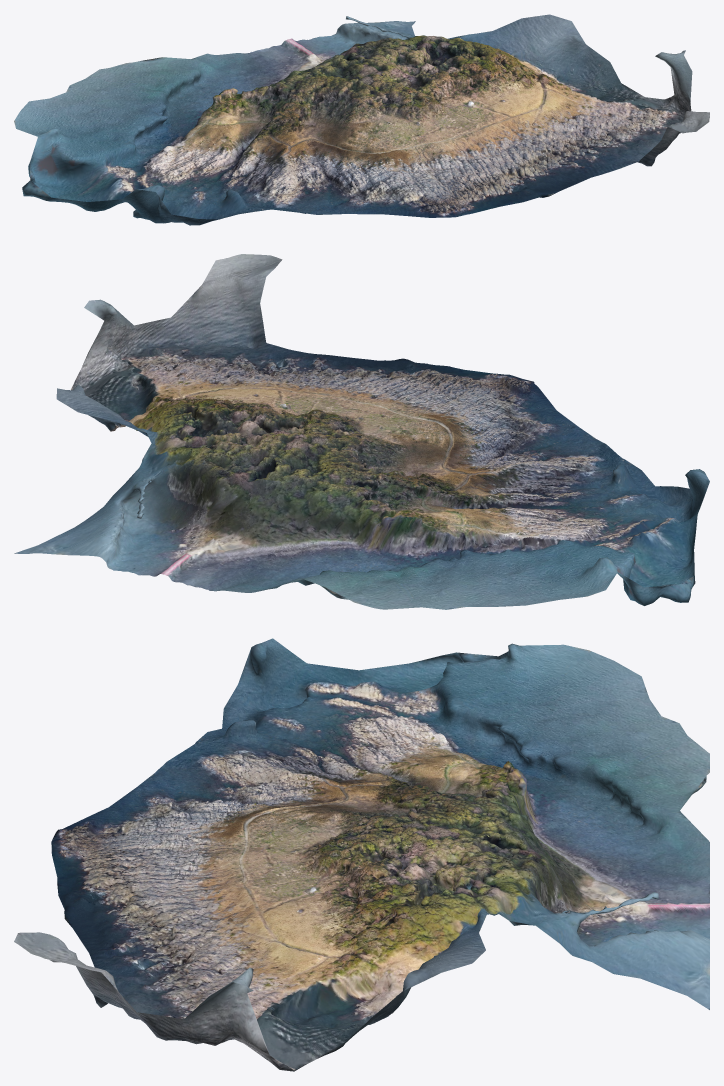
The model's file is oshima.glb.
The picture shows the model from 3 angles, top to bottom: view 1: azimuth 30°, elevation 25°; view 2: azimuth 150°, elevation 25°; view 3: azimuth 270°, elevation 25°; orthographic projection. The views are drawn at different scales.
Visible parts, largest first — view 1: baked_mesh; view 2: baked_mesh; view 3: baked_mesh.
Part boxes in pixels (<box>): baked_mesh: <box>14,14,709,225</box>; baked_mesh: <box>14,254,709,609</box>; baked_mesh: <box>14,638,709,1071</box>.
Bounding box in the file's own units: 4.42 × 0.5042 × 3.25.
Materials: 1 (1 with a texture image).
